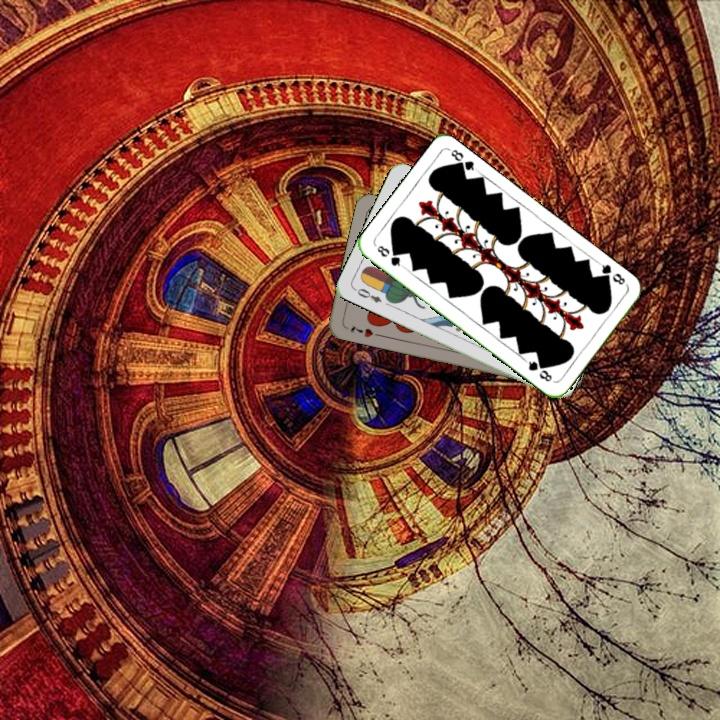EO: (350, 284, 384, 305)
G8: (373, 241, 407, 270), (595, 259, 627, 288)
H7: (346, 321, 375, 340)
